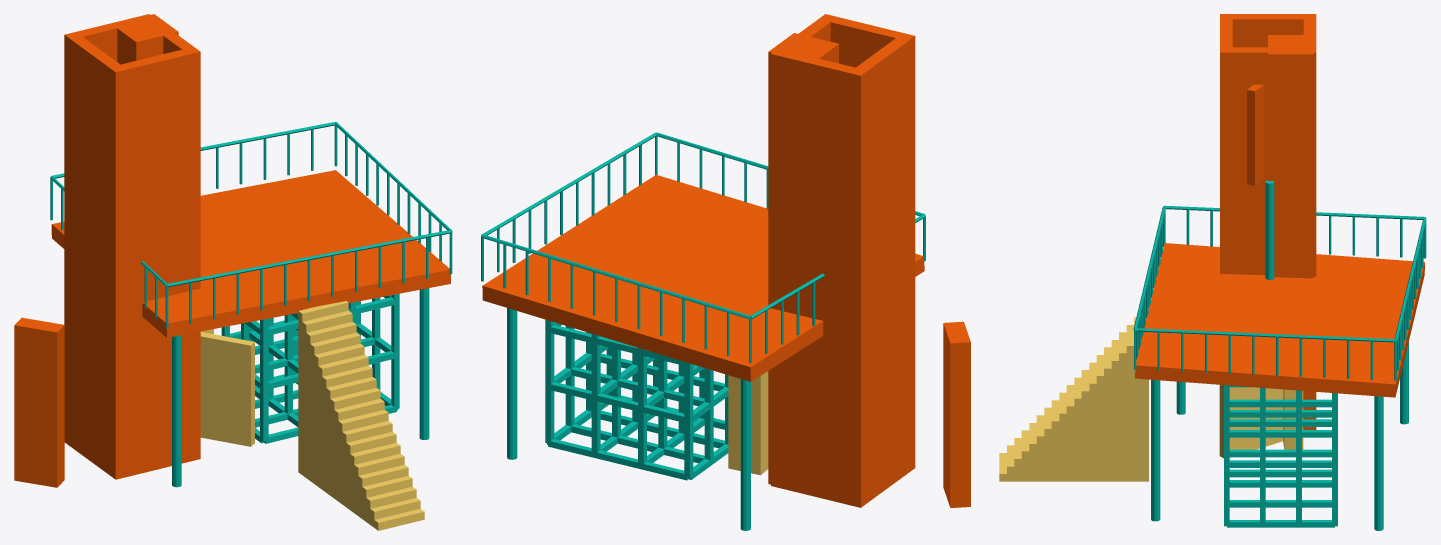
File: folie_tag_129.glb
3 views of the same model, side by side, from view 1: azimuth 30°, elevation 25°; view 2: azimuth 150°, elevation 25°; view 3: azimuth 270°, elevation 25° (orthographic). The views are drawn at different scales.
Visible parts, largest first — view 1: folie_tag_129_01_tower, folie_tag_129_00_plate, folie_tag_129_stairs, folie_tag_129_line, folie_tag_129_03_fin, folie_tag_129_02_cage, folie_tag_129_06_panel, folie_tag_129_core; view 2: folie_tag_129_01_tower, folie_tag_129_00_plate, folie_tag_129_02_cage, folie_tag_129_line, folie_tag_129_03_fin, folie_tag_129_04_fin, folie_tag_129_core; view 3: folie_tag_129_00_plate, folie_tag_129_stairs, folie_tag_129_01_tower, folie_tag_129_line, folie_tag_129_02_cage, folie_tag_129_core, folie_tag_129_06_panel, folie_tag_129_05_panel.
Boxes of the visible parts, <box> form: folie_tag_129_01_tower: <box>64,14,200,479</box>; folie_tag_129_00_plate: <box>51,170,450,337</box>; folie_tag_129_stairs: <box>298,301,424,530</box>; folie_tag_129_line: <box>50,122,452,487</box>; folie_tag_129_03_fin: <box>14,317,64,487</box>; folie_tag_129_02_cage: <box>221,293,399,443</box>; folie_tag_129_06_panel: <box>200,332,254,446</box>; folie_tag_129_core: <box>115,14,178,64</box>; folie_tag_129_01_tower: <box>771,14,915,507</box>; folie_tag_129_00_plate: <box>482,175,924,381</box>; folie_tag_129_02_cage: <box>545,319,728,480</box>; folie_tag_129_line: <box>481,132,925,530</box>; folie_tag_129_03_fin: <box>943,321,970,507</box>; folie_tag_129_04_fin: <box>728,371,768,475</box>; folie_tag_129_core: <box>768,33,838,484</box>; folie_tag_129_00_plate: <box>1135,243,1424,397</box>; folie_tag_129_stairs: <box>999,317,1148,481</box>; folie_tag_129_01_tower: <box>1220,14,1316,429</box>; folie_tag_129_line: <box>1133,180,1426,530</box>; folie_tag_129_02_cage: <box>1224,385,1337,527</box>; folie_tag_129_core: <box>1268,35,1313,429</box>; folie_tag_129_06_panel: <box>1219,384,1282,458</box>; folie_tag_129_05_panel: <box>1247,84,1264,185</box>.
Size of the model in its own units: 10.18 by 10.17 by 10.28.
